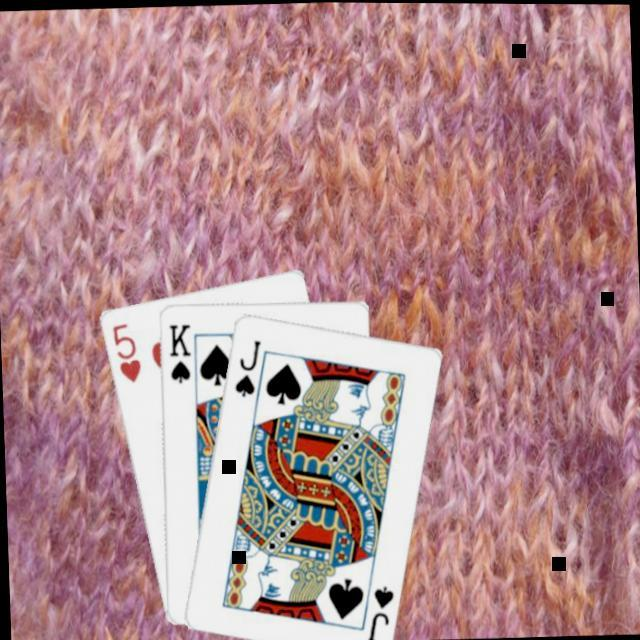5H: (107, 317, 142, 384)
JS: (228, 335, 264, 398), (361, 580, 397, 640)
KS: (163, 318, 193, 385)
